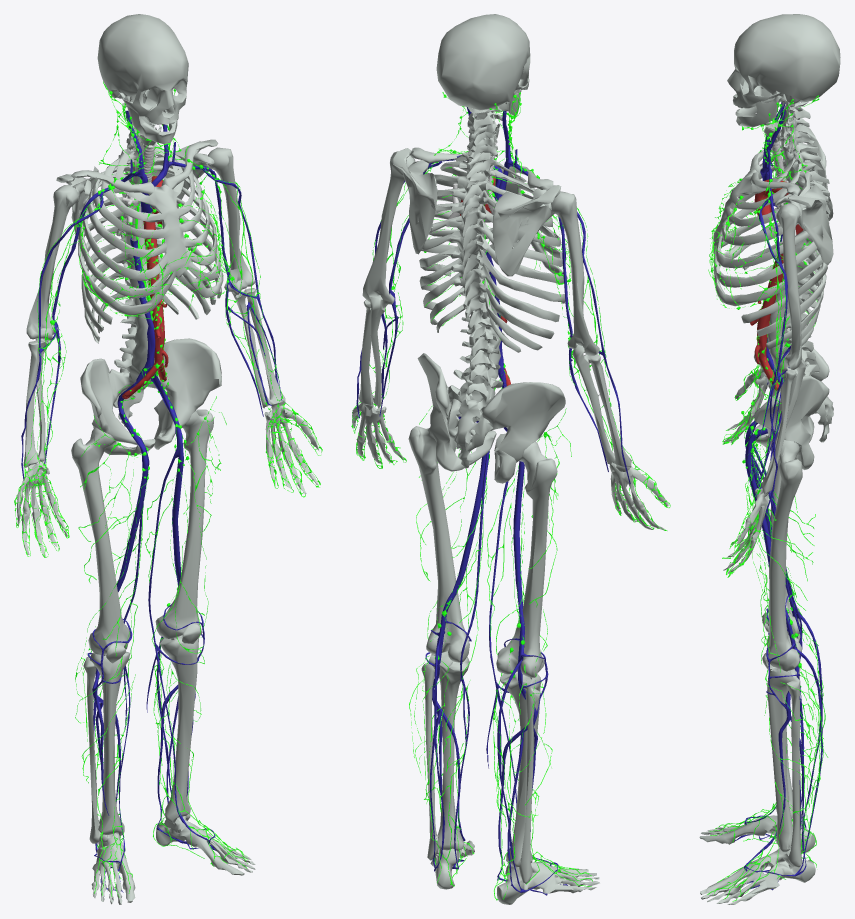
Rendered from lymphatic.glb.
3 renders of one model, left to right at view 1: azimuth 30°, elevation 25°; view 2: azimuth 150°, elevation 25°; view 3: azimuth 270°, elevation 25°, orthographic. The views are drawn at different scales.
Visible parts, largest first — view 1: SubTool_3_8350512_copy1, SubTool_3_8350512, Extract5, Extract4; view 2: SubTool_3_8350512_copy1, Extract5, SubTool_3_8350512; view 3: SubTool_3_8350512_copy1, SubTool_3_8350512, Extract5, Extract4, SubTool_0_8307278.
Boxes of the visible parts, x1,y1,x2,y2 form: SubTool_3_8350512_copy1: [17, 14, 318, 904]; SubTool_3_8350512: [14, 81, 322, 897]; Extract5: [21, 110, 285, 892]; Extract4: [122, 176, 168, 399]; SubTool_3_8350512_copy1: [352, 14, 668, 904]; Extract5: [356, 107, 630, 895]; SubTool_3_8350512: [351, 92, 670, 900]; SubTool_3_8350512_copy1: [699, 14, 840, 904]; SubTool_3_8350512: [707, 95, 828, 901]; Extract5: [735, 102, 822, 890]; Extract4: [750, 179, 803, 390]; SubTool_0_8307278: [770, 138, 796, 235].
Bounding box in the file's own units: 653 × 1708 × 257.
